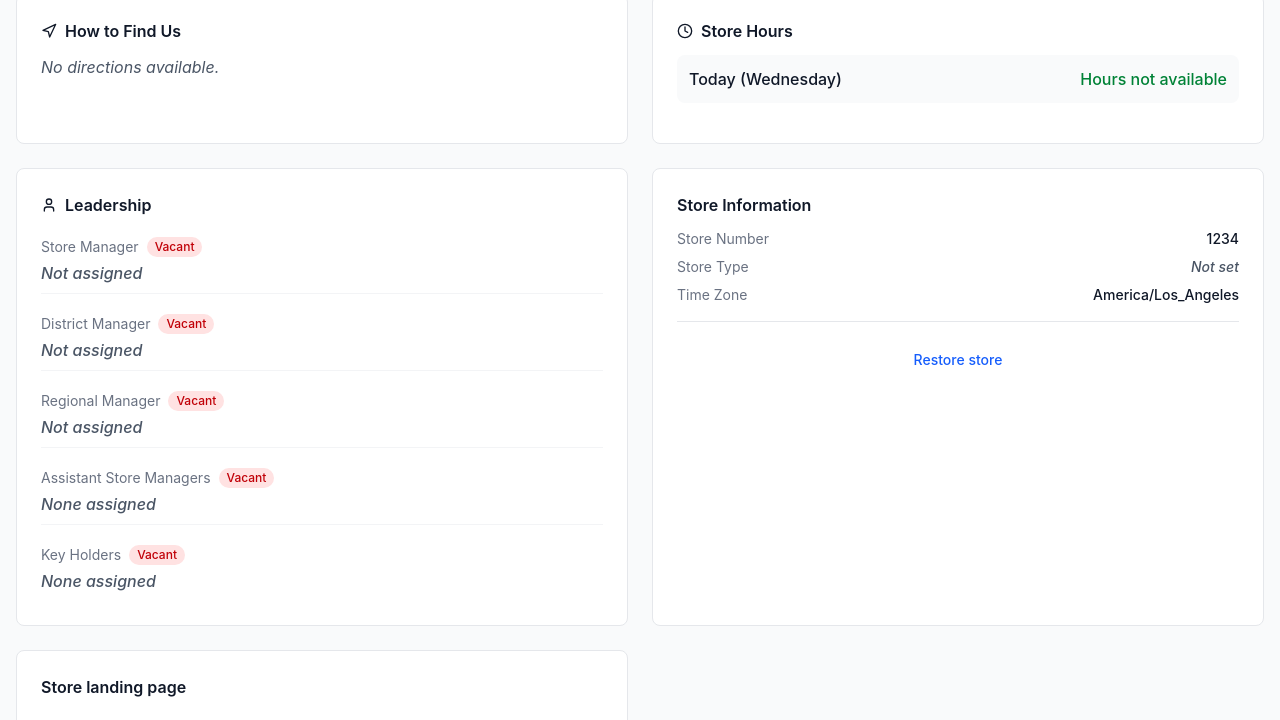
Test: LocationDetailView close and restore › shows inline restore errors for each conflict code
This screenshot has width=1280, height=720.
Later steps or results of the test are not shown.
(page scrolled)
Click the button "Restore store".
click(958, 360)  # box [677,338,1239,382]
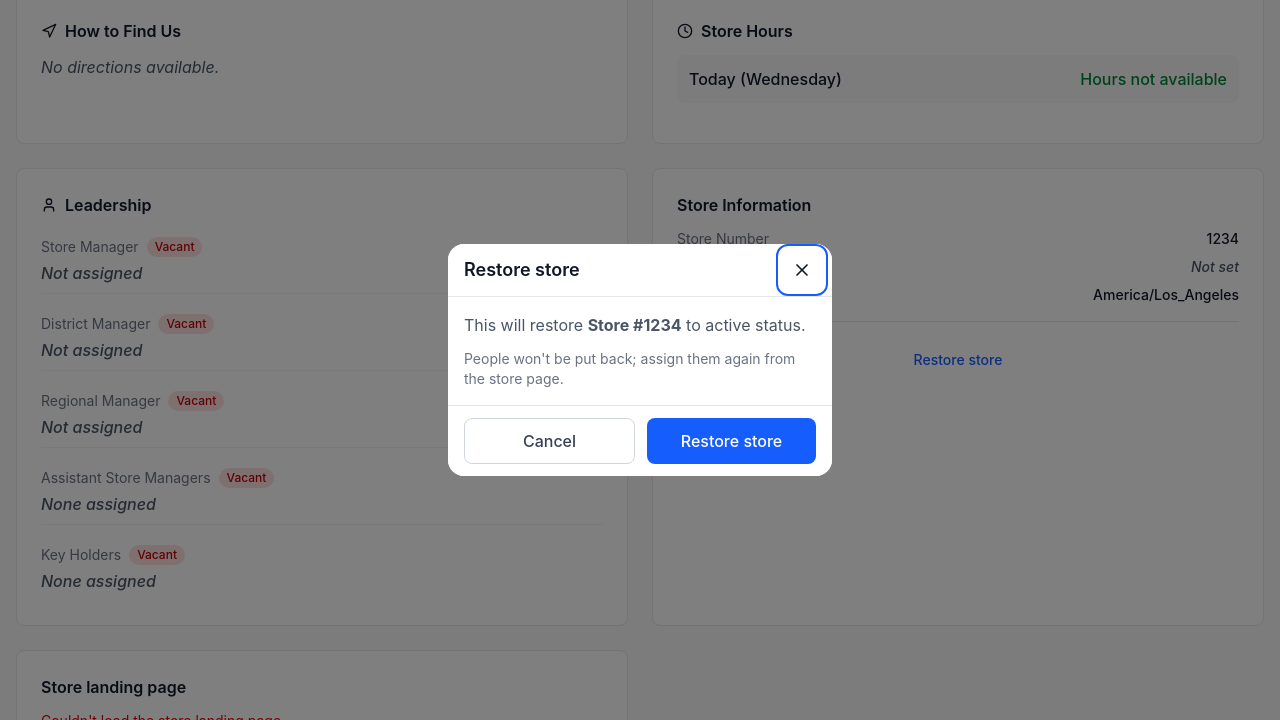
Click the button "Restore store".
click(732, 441)  # box [647,418,816,464]
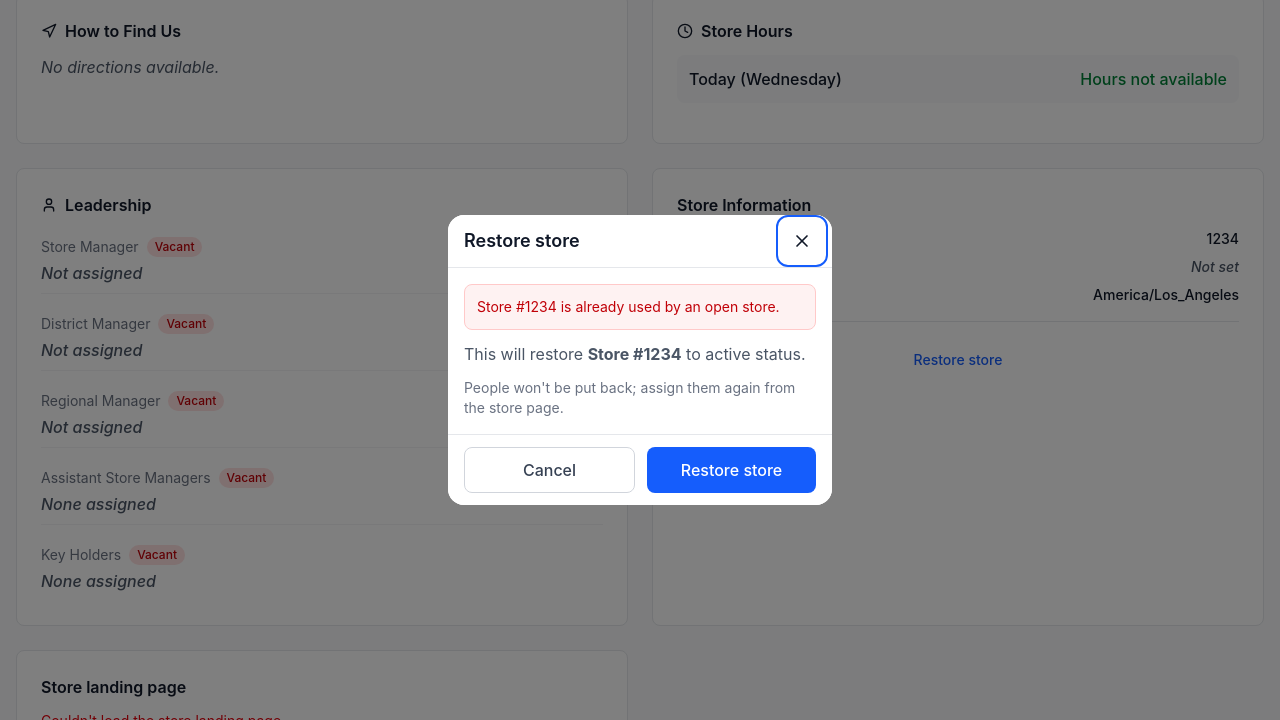
Now the text "Store #1234 is already used by an open store." is shown, box [477,297,803,317]
